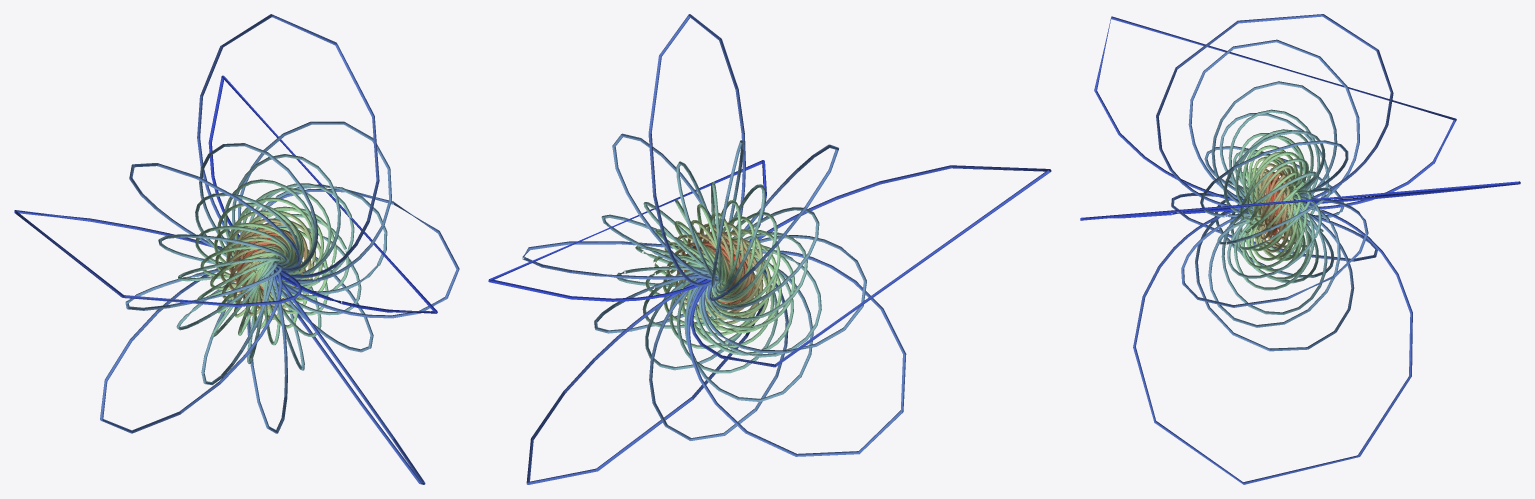
Rendered from hopf-fibration.glb.
3 views of the same model, side by side, from view 1: azimuth 30°, elevation 25°; view 2: azimuth 150°, elevation 25°; view 3: azimuth 270°, elevation 25° (orthographic). The views are drawn at different scales.
Parts seen in each view (by area): view 1: world; view 2: world; view 3: world.
Part boxes in pixels (x1,y1,x2,y2): world: (14,14,459,484); world: (488,14,1051,484); world: (1080,14,1520,484).
Bounding box in the file's own units: 17.39 × 18.65 × 17.51.
